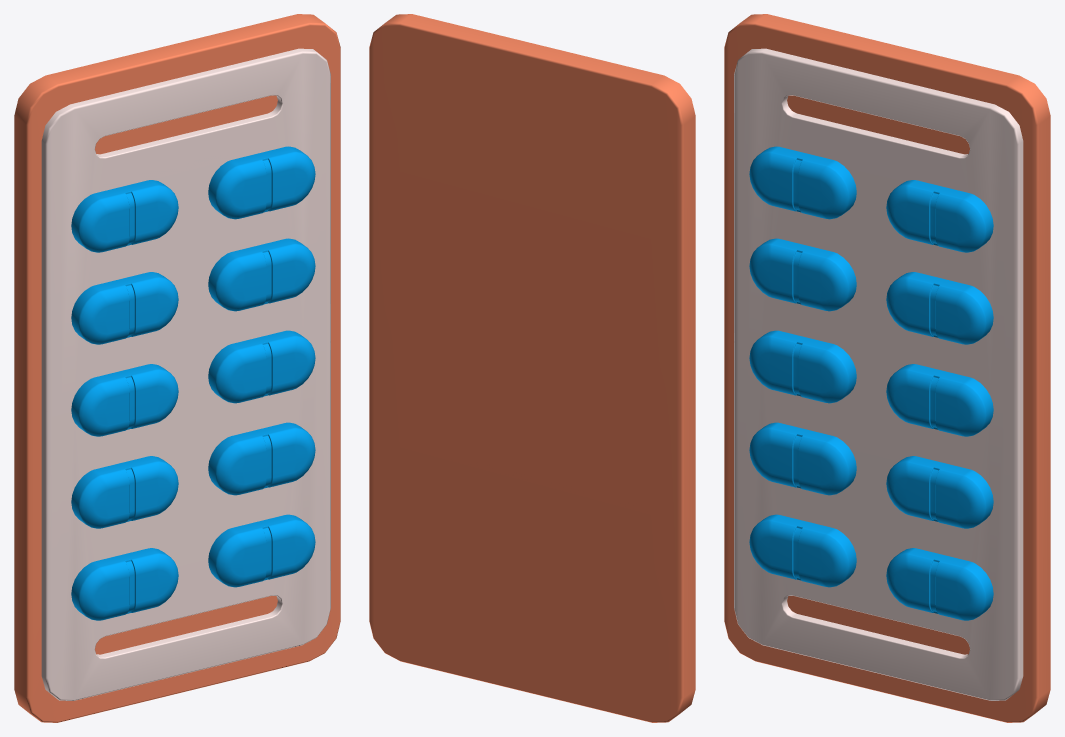
File: Public_3_Pill_Pack_3.glb
The picture shows the model from 3 angles, left to right: view 1: azimuth 30°, elevation 25°; view 2: azimuth 150°, elevation 25°; view 3: azimuth 330°, elevation 25°; orthographic projection.
Parts seen in each view (by area): view 1: Public_3_Pill_Pack_3; view 2: Public_3_Pill_Pack_3; view 3: Public_3_Pill_Pack_3.
Part boxes in pixels (x1,y1,x2,y2): Public_3_Pill_Pack_3: (14,14,340,722); Public_3_Pill_Pack_3: (369,14,695,722); Public_3_Pill_Pack_3: (724,14,1050,722).
Size of the model in its own units: 1.66 by 3.21 by 0.2795.
1 material, 1 textured.
